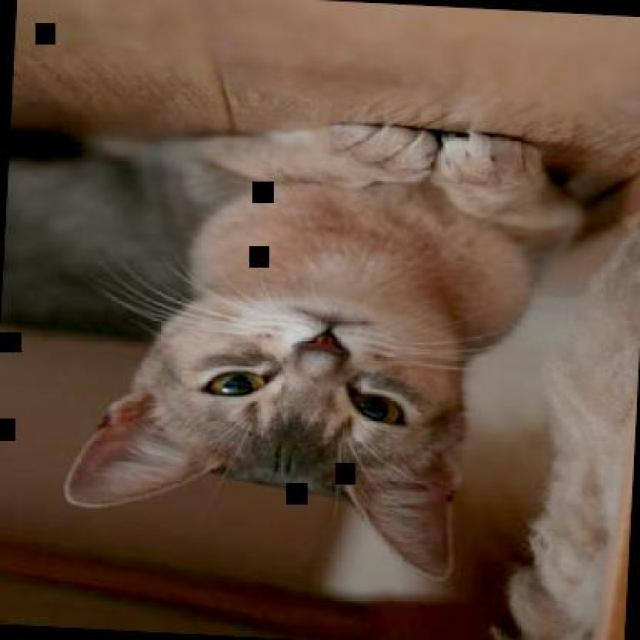cat: (0, 103, 589, 588)
